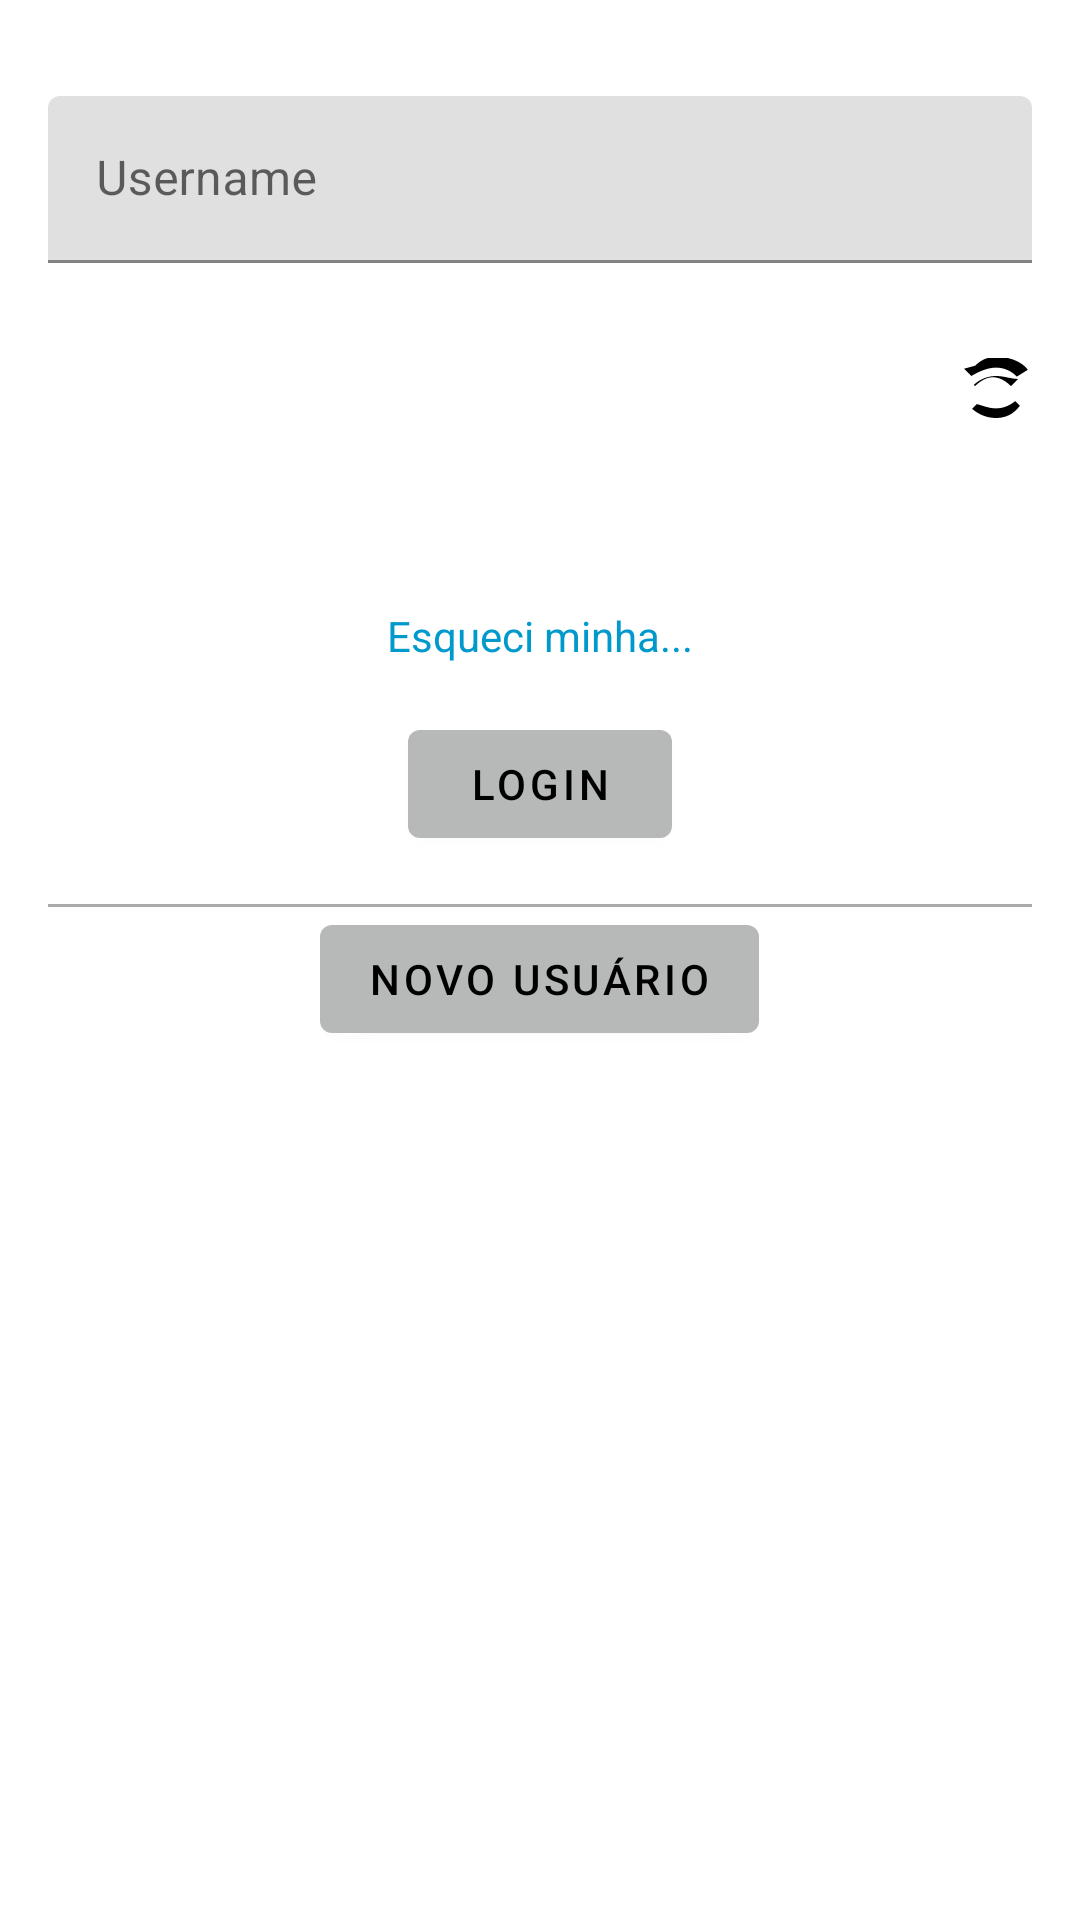

Locate icon controls on the screen. Image size 1080px×1920px, boxes as (x1=x1, y1=y1, x2=x2, y2=y2).
visibility off: (x1=964, y1=358, x2=1028, y2=418)
